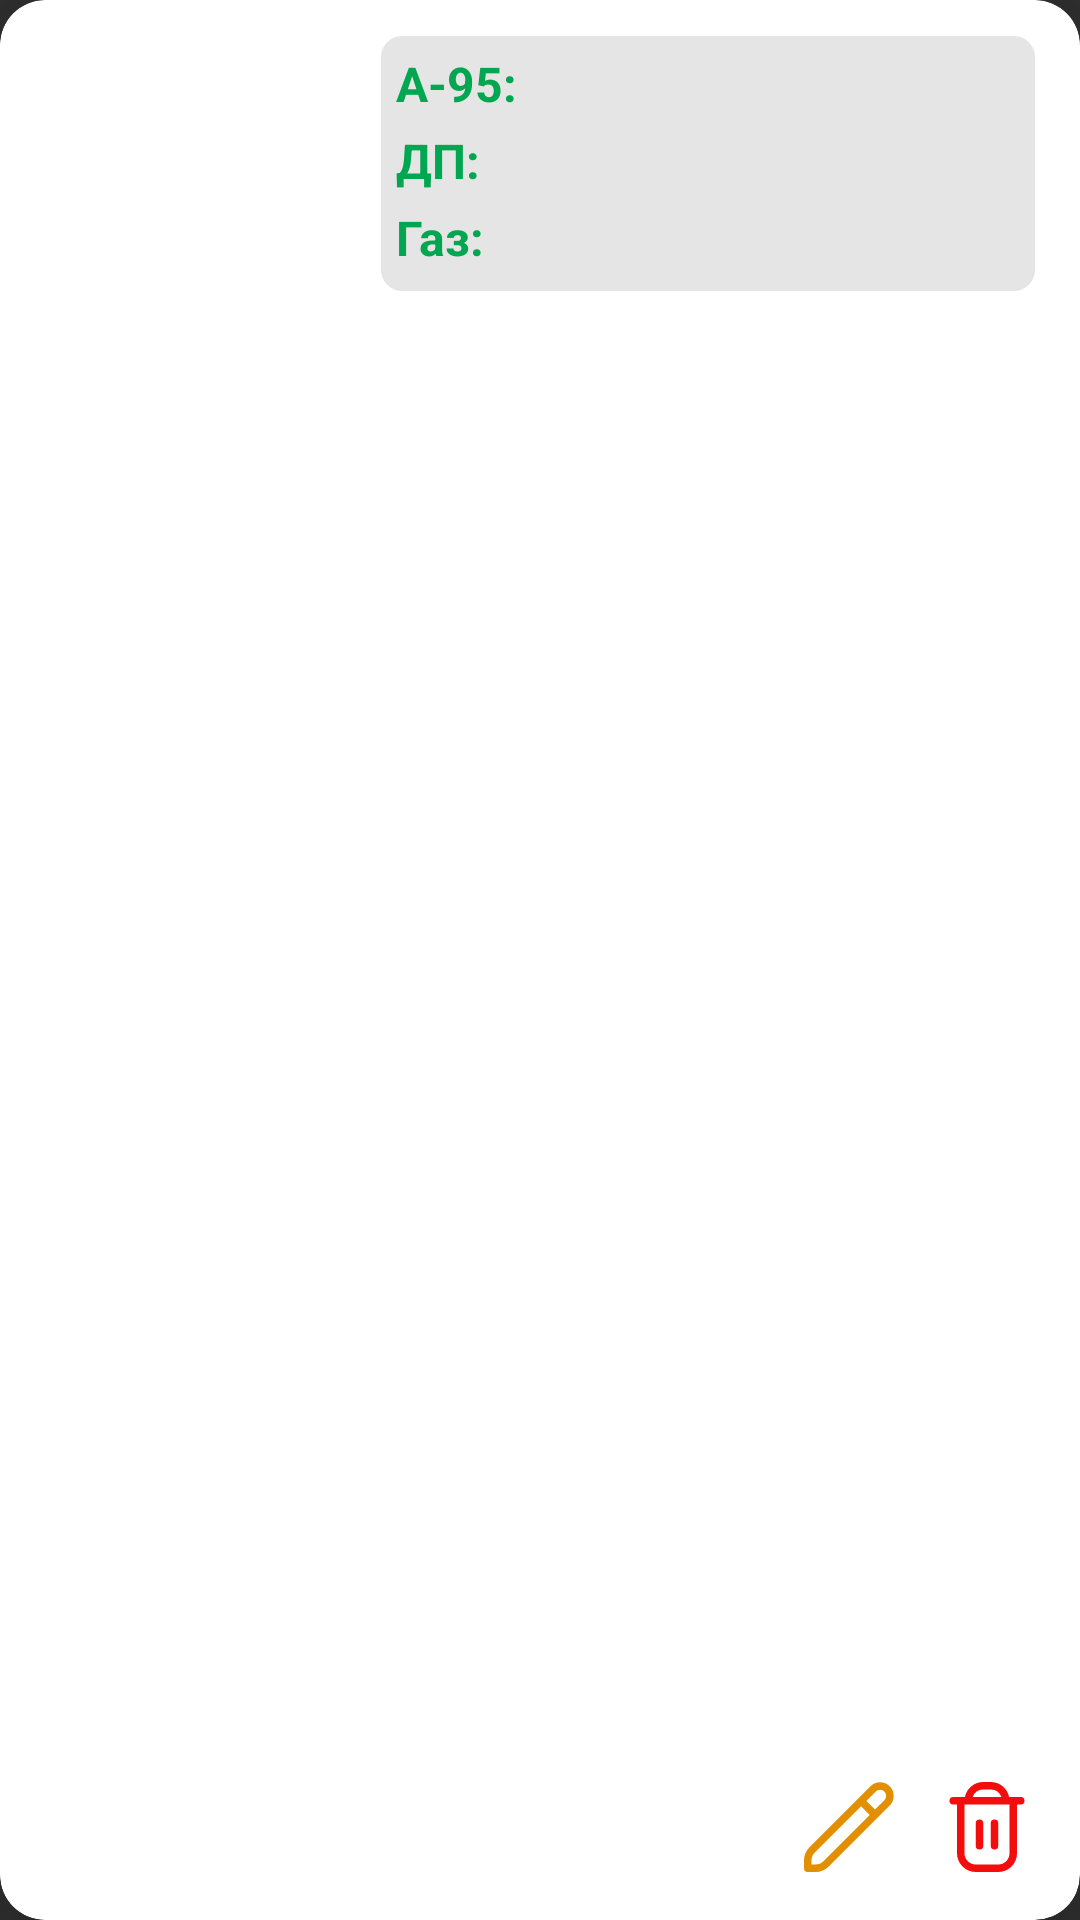

Icons on this 1080×1920 Android screen, each with its box as box(x1, y1, x2, y2):
delete: box(949, 1782, 1025, 1872)
edit: box(804, 1782, 894, 1872)
